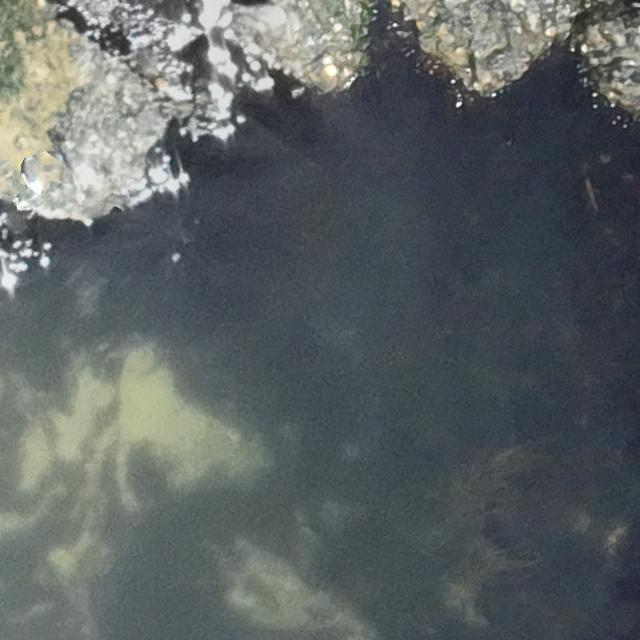umineko: (66, 142, 94, 184), (241, 2, 288, 26), (22, 160, 46, 200)
